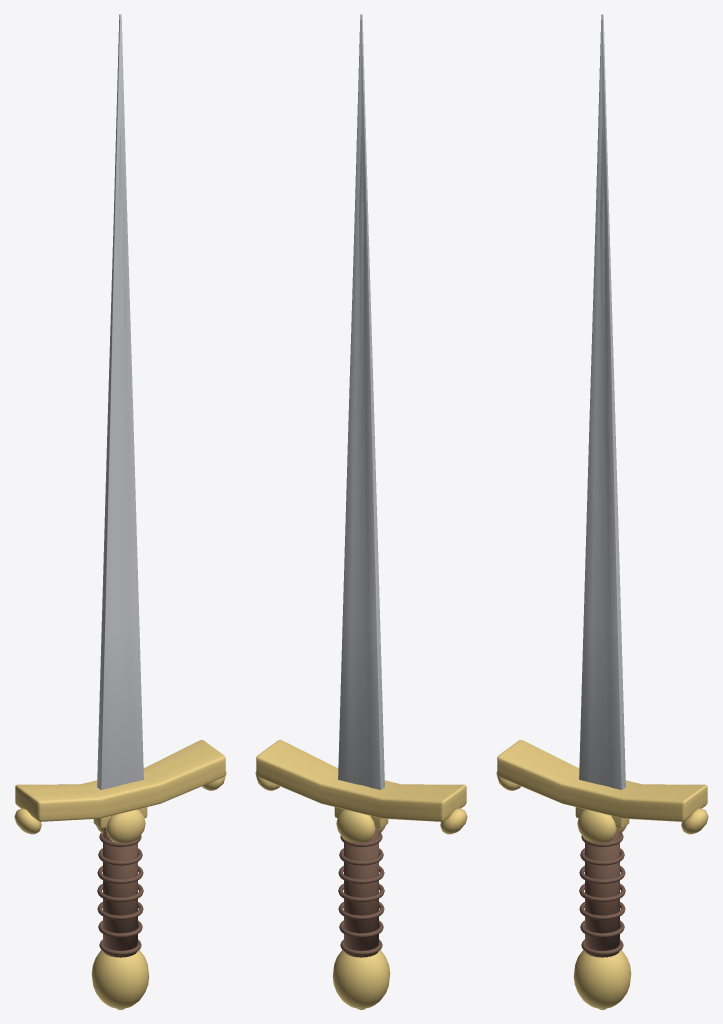
Rendered from SirAldric_PILOT_sword.fbx.
3 renders of one model, left to right at view 1: azimuth 30°, elevation 25°; view 2: azimuth 150°, elevation 25°; view 3: azimuth 330°, elevation 25°, orthographic.
Visible parts, largest first — view 1: SirAldric_PILOT_sword; view 2: SirAldric_PILOT_sword; view 3: SirAldric_PILOT_sword.
Boxes of the visible parts, left/top/right/bottom form: SirAldric_PILOT_sword: left=14, top=14, right=226, bottom=1009; SirAldric_PILOT_sword: left=255, top=14, right=467, bottom=1009; SirAldric_PILOT_sword: left=496, top=14, right=708, bottom=1009.
Size of the model in its own units: 22 by 101 by 5.32.
